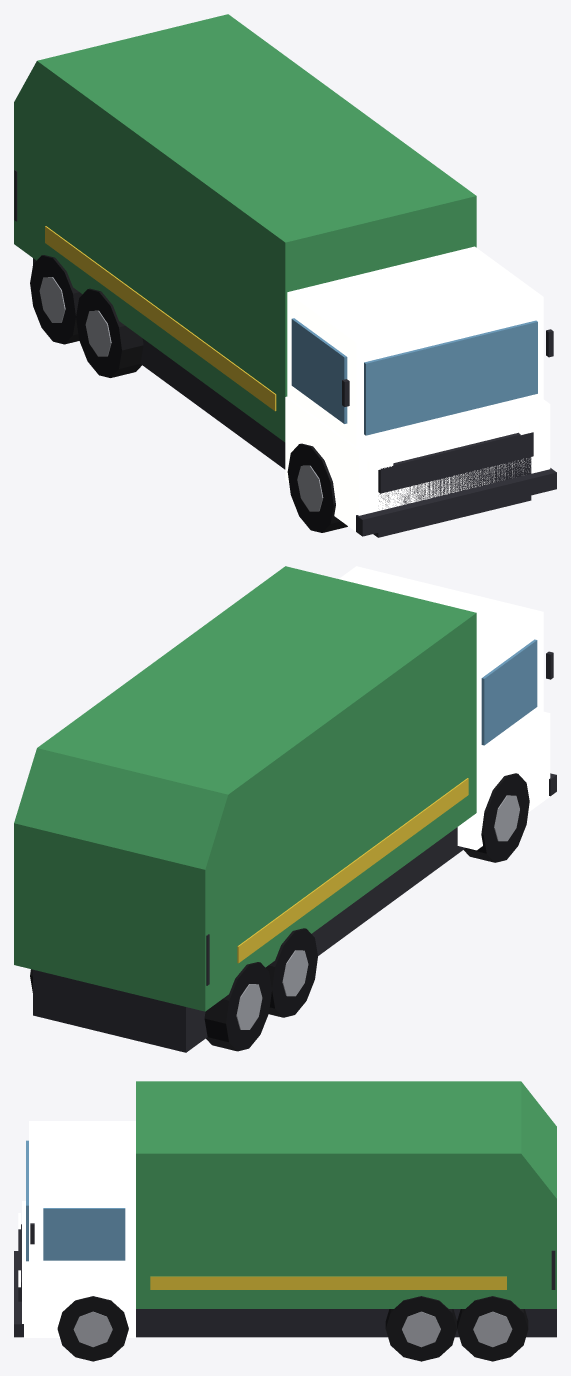
File: garbage_truck.glb
3 views of the same model, one above another, from view 1: azimuth 30°, elevation 25°; view 2: azimuth 150°, elevation 25°; view 3: azimuth 270°, elevation 25° (orthographic). The views are drawn at different scales.
Parts seen in each view (by area): view 1: garbage_truck; view 2: garbage_truck; view 3: garbage_truck.
Boxes of the visible parts, x1=… form: garbage_truck: x1=14, y1=14, x2=556, y2=537; garbage_truck: x1=14, y1=566, x2=556, y2=1052; garbage_truck: x1=14, y1=1081, x2=556, y2=1361.
Bounding box in the file's own units: 2.62 × 3.2 × 7.61.
